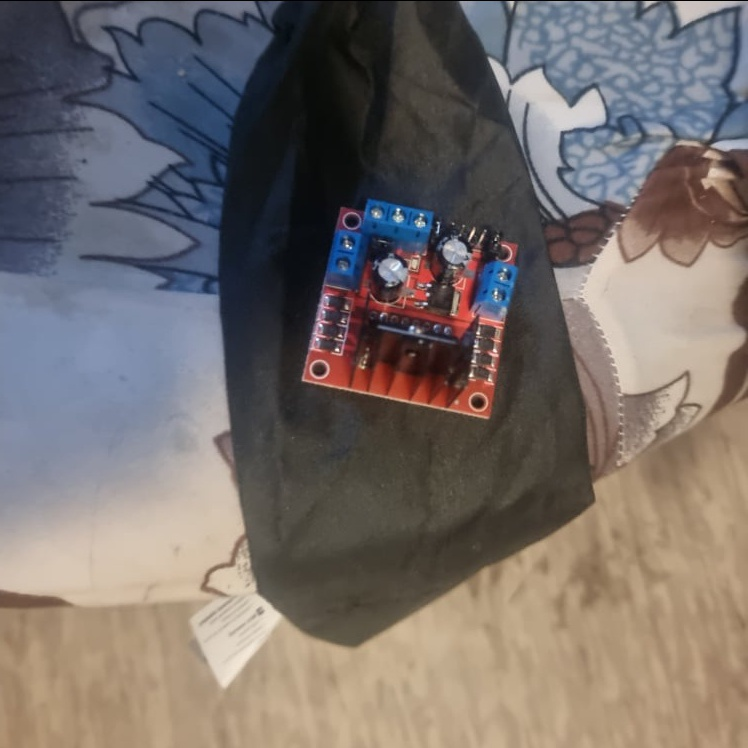MOTOR: (295, 194, 523, 425)
